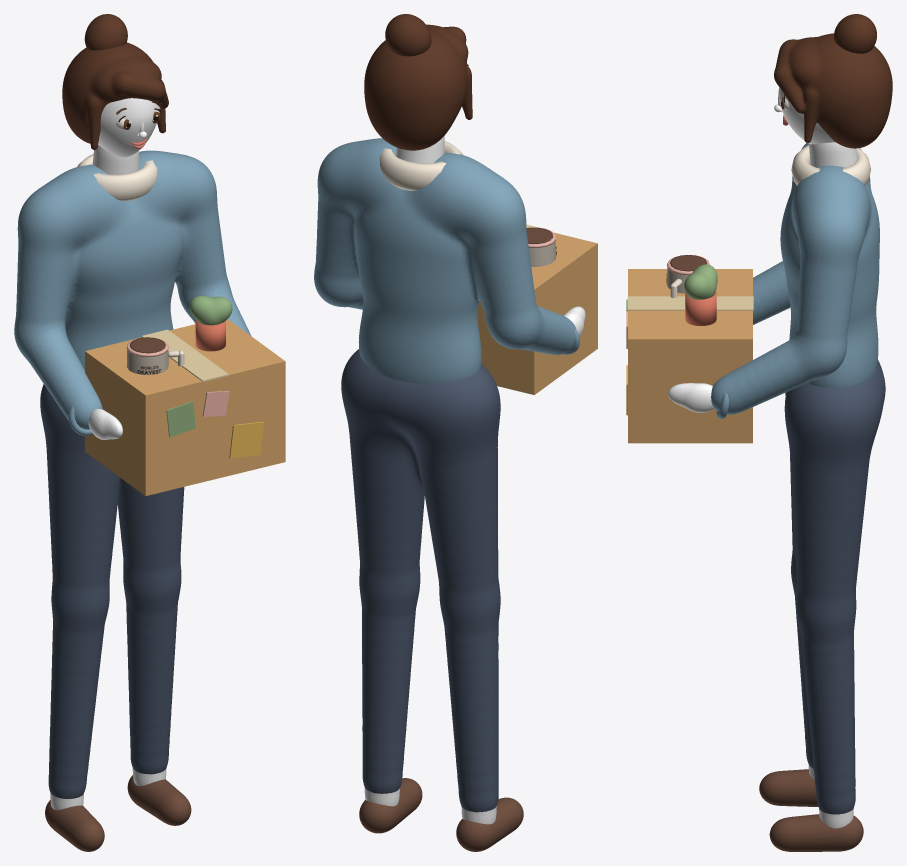
Rendered from dana.glb.
3 views of the same model, side by side, from view 1: azimuth 30°, elevation 25°; view 2: azimuth 150°, elevation 25°; view 3: azimuth 270°, elevation 25° (orthographic). The views are drawn at different scales.
Visible parts, largest first — view 1: Sweater, Trousers, Box, Hair, Head, Shoe_L, Shoe_R, Collar, mug_worlds_okayest, BoxTape, Bun, StickyNote_Y (+6 smaller); view 2: Trousers, Sweater, Hair, Box, Shoe_R, Shoe_L, Collar, Bun, mug_worlds_okayest, Neck; view 3: Trousers, Sweater, Box, Hair, Shoe_L, Shoe_R, BoxTape, Bun, Collar, Hand_L, Neck, mug_worlds_okayest (+3 smaller).
Part boxes in pixels (x1,y1,x2,y2): Sweater: (14,150,251,429); Trousers: (40,384,184,798); Box: (85,319,285,496); Hair: (62,42,168,149); Head: (98,98,160,157); Shoe_L: (127,775,191,825); Shoe_R: (45,800,104,851); Collar: (77,151,157,200); mug_worlds_okayest: (126,337,184,375); BoxTape: (141,329,228,381); Bun: (84,14,127,50); StickyNote_Y: (229,421,264,458); Trousers: (341,349,500,812); Sweater: (314,138,576,383); Hair: (364,24,472,150); Box: (477,232,597,394); Shoe_R: (456,797,523,851); Shoe_L: (359,778,422,833); Collar: (379,141,462,190); Bun: (385,14,431,56); mug_worlds_okayest: (526,227,555,266); Neck: (396,136,444,163); Trousers: (784,360,885,814); Sweater: (711,142,879,414); Box: (628,269,752,443); Hair: (774,33,892,148); Shoe_L: (769,814,863,851); Shoe_R: (759,769,818,806); BoxTape: (627,296,753,310); Bun: (834,14,876,53); Collar: (791,145,870,185); Hand_L: (668,383,714,412); Neck: (809,142,857,167); mug_worlds_okayest: (667,255,709,297).
Bounding box in the file's own units: 0.4785 × 1.73 × 0.5115.
Materials: 25 (1 with a texture image).
